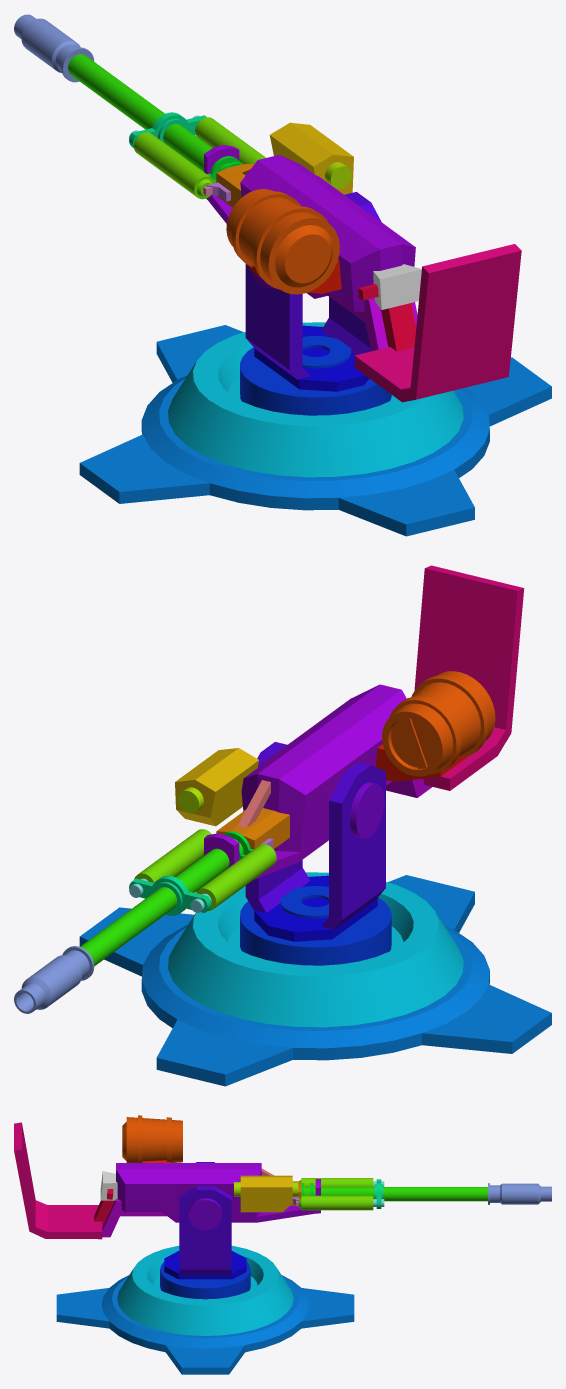
File: autocannon.glb
The picture shows the model from 3 angles, top to bottom: view 1: azimuth 30°, elevation 25°; view 2: azimuth 150°, elevation 25°; view 3: azimuth 270°, elevation 25°; orthographic projection. The views are drawn at different scales.
Parts seen in each view (by area): view 1: Cylinder, Cylinder.001, Cube.008, Cube.002, Cylinder.014, Cube.001, Cylinder.002, Cylinder.004, Cylinder.007, Cube.005, Cylinder.005, Cube (+5 smaller); view 2: Cylinder, Cylinder.001, Cube.008, Cube.002, Cube.001, Cylinder.014, Cylinder.002, Cylinder.004, Cube.005, Cylinder.007, Cylinder.005, Cube (+5 smaller); view 3: Cylinder, Cylinder.001, Cube.002, Cube.001, Cube.008, Cylinder.014, Cylinder.004, Cube.005, Cylinder.002, Cylinder.007, Cylinder.005, Cube (+3 smaller).
Boxes of the visible parts, x1,y1,x2,y2 form: Cylinder: [79, 325, 551, 536]; Cylinder.001: [168, 322, 463, 477]; Cube.008: [354, 244, 521, 402]; Cube.002: [204, 145, 415, 311]; Cylinder.014: [226, 189, 339, 294]; Cube.001: [245, 192, 381, 380]; Cylinder.002: [240, 336, 391, 415]; Cylinder.004: [68, 54, 229, 171]; Cylinder.007: [133, 117, 265, 199]; Cube.005: [269, 122, 353, 194]; Cylinder.005: [14, 14, 94, 82]; Cube: [254, 325, 369, 391]; Cylinder: [79, 875, 551, 1086]; Cylinder.001: [168, 872, 463, 1027]; Cube.008: [414, 565, 524, 790]; Cube.002: [204, 684, 406, 879]; Cube.001: [245, 742, 385, 930]; Cylinder.014: [382, 671, 495, 776]; Cylinder.002: [240, 886, 391, 965]; Cylinder.004: [80, 838, 243, 966]; Cube.005: [175, 748, 259, 826]; Cylinder.007: [134, 829, 276, 910]; Cylinder.005: [14, 946, 94, 1013]; Cube: [254, 875, 377, 941]; Cylinder: [56, 1275, 354, 1374]; Cylinder.001: [117, 1245, 293, 1335]; Cube.002: [116, 1163, 320, 1222]; Cube.001: [179, 1162, 231, 1274]; Cube.008: [14, 1122, 102, 1239]; Cylinder.014: [122, 1115, 182, 1162]; Cylinder.004: [301, 1187, 487, 1201]; Cube.005: [240, 1175, 292, 1212]; Cylinder.002: [160, 1262, 250, 1299]; Cylinder.007: [299, 1178, 373, 1210]; Cylinder.005: [488, 1183, 551, 1204]; Cube: [164, 1251, 246, 1279].
Bounding box in the file's own units: 3.01 × 1.96 × 5.45.
